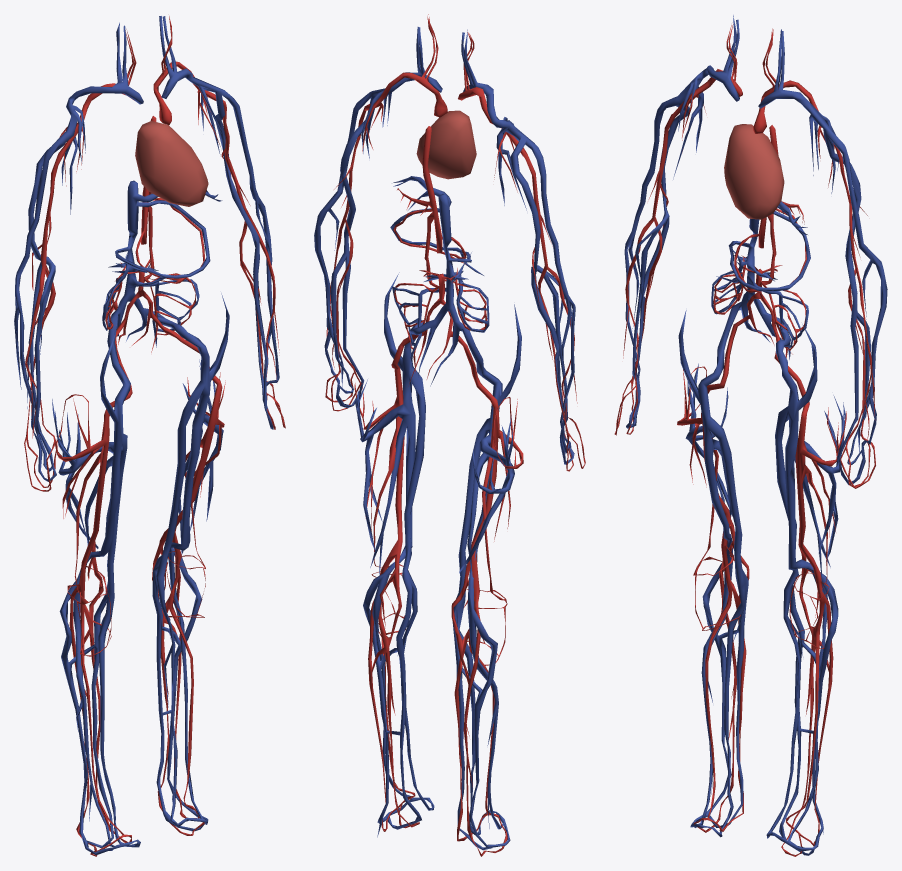
File: pediatric_adolescent_male.cardiovascular.LOD3.glb
The picture shows the model from 3 angles, left to right: view 1: azimuth 30°, elevation 25°; view 2: azimuth 150°, elevation 25°; view 3: azimuth 330°, elevation 25°; orthographic projection.
Visible parts, largest first — view 1: PEDIATRIC.ADOLESCENT.MALE.CARDIOVASCULAR.BLOOD_IN_LARGE_VEIN, PEDIATRIC.ADOLESCENT.MALE.CARDIOVASCULAR.BLOOD_IN_LARGE_ARTE, PEDIATRIC.ADOLESCENT.MALE.CARDIOVASCULAR.HEART_WALL; view 2: PEDIATRIC.ADOLESCENT.MALE.CARDIOVASCULAR.BLOOD_IN_LARGE_VEIN, PEDIATRIC.ADOLESCENT.MALE.CARDIOVASCULAR.BLOOD_IN_LARGE_ARTE, PEDIATRIC.ADOLESCENT.MALE.CARDIOVASCULAR.HEART_WALL; view 3: PEDIATRIC.ADOLESCENT.MALE.CARDIOVASCULAR.BLOOD_IN_LARGE_VEIN, PEDIATRIC.ADOLESCENT.MALE.CARDIOVASCULAR.BLOOD_IN_LARGE_ARTE, PEDIATRIC.ADOLESCENT.MALE.CARDIOVASCULAR.HEART_WALL.
Part boxes in pixels (x1,y1,x2,y2): PEDIATRIC.ADOLESCENT.MALE.CARDIOVASCULAR.BLOOD_IN_LARGE_VEIN: [14, 16, 279, 855]; PEDIATRIC.ADOLESCENT.MALE.CARDIOVASCULAR.BLOOD_IN_LARGE_ARTE: [24, 16, 285, 856]; PEDIATRIC.ADOLESCENT.MALE.CARDIOVASCULAR.HEART_WALL: [135, 121, 208, 206]; PEDIATRIC.ADOLESCENT.MALE.CARDIOVASCULAR.BLOOD_IN_LARGE_VEIN: [314, 27, 575, 850]; PEDIATRIC.ADOLESCENT.MALE.CARDIOVASCULAR.BLOOD_IN_LARGE_ARTE: [325, 14, 585, 856]; PEDIATRIC.ADOLESCENT.MALE.CARDIOVASCULAR.HEART_WALL: [416, 110, 476, 179]; PEDIATRIC.ADOLESCENT.MALE.CARDIOVASCULAR.BLOOD_IN_LARGE_VEIN: [624, 15, 887, 855]; PEDIATRIC.ADOLESCENT.MALE.CARDIOVASCULAR.BLOOD_IN_LARGE_ARTE: [614, 24, 875, 856]; PEDIATRIC.ADOLESCENT.MALE.CARDIOVASCULAR.HEART_WALL: [724, 124, 784, 219].
Bounding box in the file's own units: 0.4888 × 1.5 × 0.1802.
